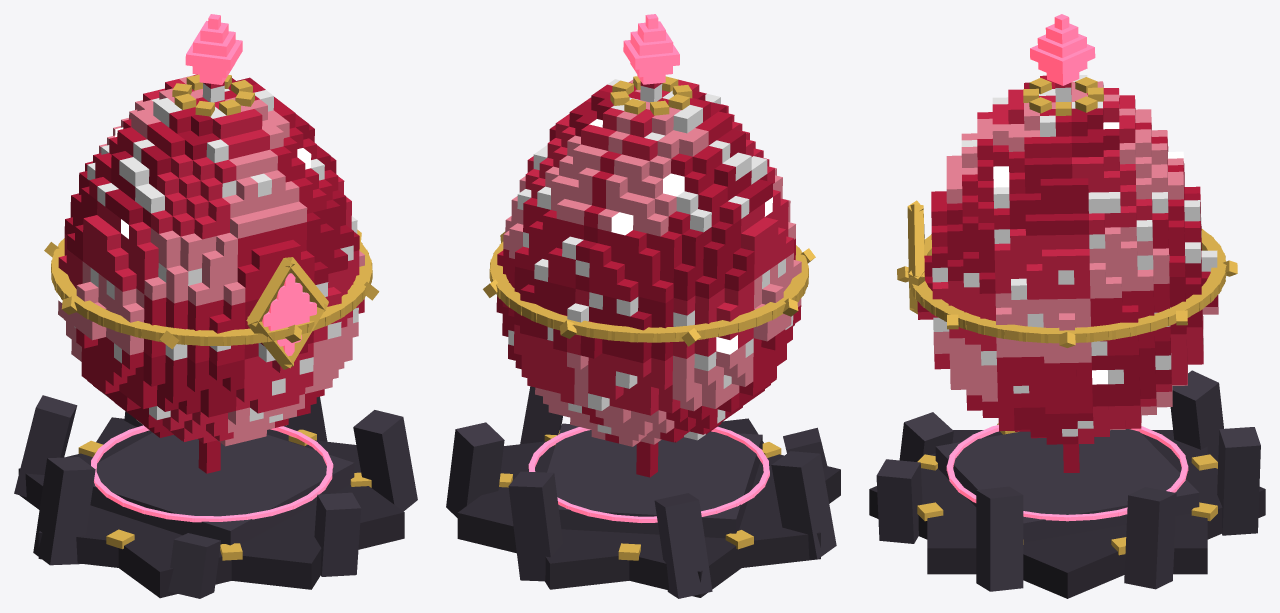
The model's file is egg_raro_rubi.glb.
The picture shows the model from 3 angles, left to right: view 1: azimuth 30°, elevation 25°; view 2: azimuth 150°, elevation 25°; view 3: azimuth 270°, elevation 25°; orthographic projection.
Parts seen in each view (by area): view 1: shell_geo, root_geo, egg_geo, emblem_geo, crown_geo; view 2: shell_geo, root_geo, egg_geo, crown_geo; view 3: shell_geo, root_geo, egg_geo, crown_geo, emblem_geo.
Boxes of the visible parts, bbox=[...] form: shell_geo: bbox=[58, 74, 364, 473]; root_geo: bbox=[14, 395, 417, 598]; egg_geo: bbox=[44, 229, 379, 349]; emblem_geo: bbox=[246, 257, 328, 369]; crown_geo: bbox=[172, 14, 254, 116]; shell_geo: bbox=[496, 79, 801, 477]; root_geo: bbox=[446, 386, 840, 598]; egg_geo: bbox=[483, 231, 815, 346]; crown_geo: bbox=[610, 14, 692, 115]; shell_geo: bbox=[917, 75, 1218, 472]; root_geo: bbox=[869, 370, 1265, 598]; egg_geo: bbox=[897, 229, 1237, 347]; crown_geo: bbox=[1023, 14, 1103, 115]; emblem_geo: bbox=[907, 200, 924, 314].
Size of the model in its own units: 5.55 by 7.7 by 5.52.
